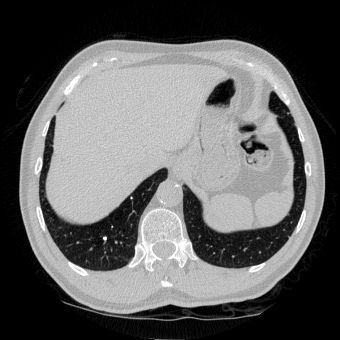nodule: (102, 236, 106, 240)
